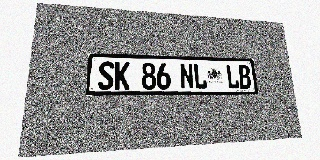6: (156, 63, 171, 89)
8: (142, 62, 156, 89)
B: (238, 65, 252, 89)
K: (114, 62, 130, 90)
L: (193, 64, 207, 89), (226, 65, 240, 89)
N: (180, 63, 194, 89)
S: (98, 61, 114, 90)
